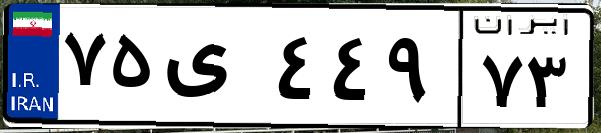3: (525, 38, 570, 115)
4: (270, 28, 330, 110), (330, 28, 385, 110)
5: (110, 28, 158, 98)
7: (57, 26, 110, 100), (475, 38, 525, 113)
9: (385, 28, 445, 110)
ی: (158, 20, 270, 120)
